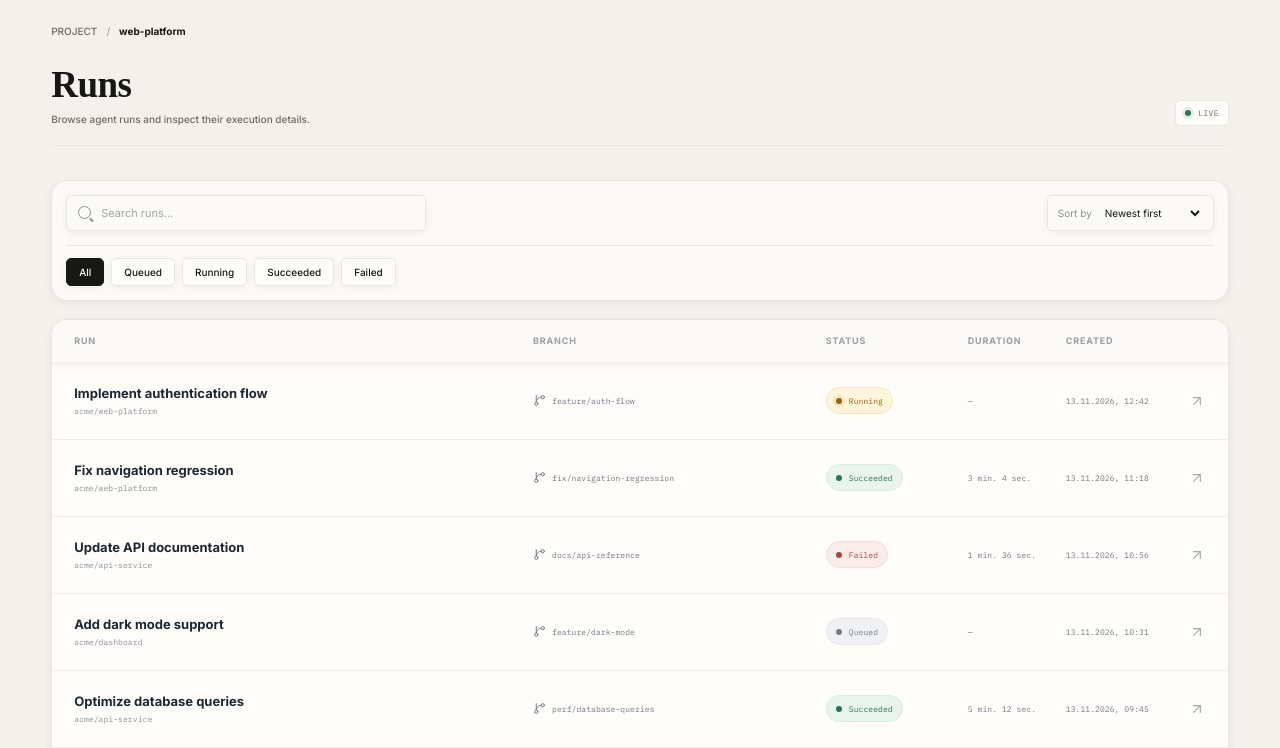
Scenario: RunsPage › opens the original details drawer from a run row
Expected: the text "Update API documentation" is shown, x1=74 y1=539 x2=244 y2=555
Click the button with aria-label "open details for update api documentation".
click(640, 554)  # box x1=52 y1=516 x2=1228 y2=592
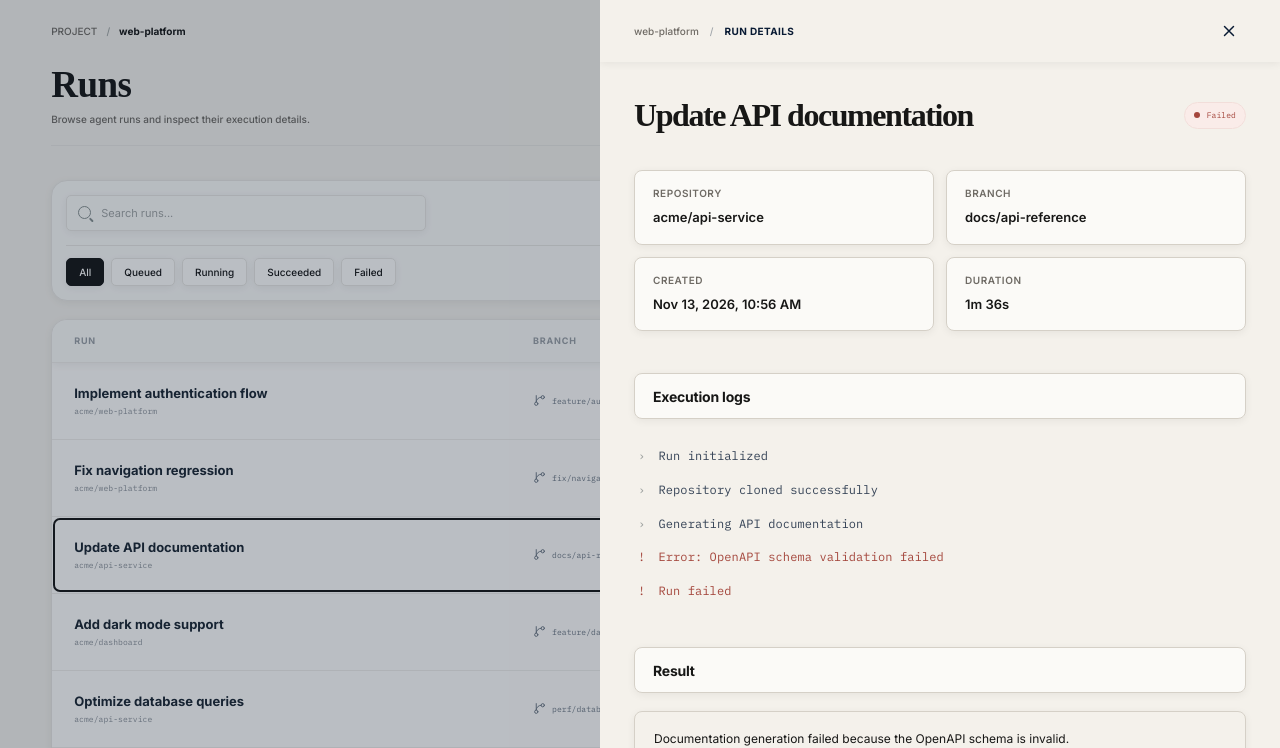
Expected: the heading "Execution logs" is shown, x1=653 y1=388 x2=750 y2=405
Expected: the heading "Result" is shown, x1=653 y1=662 x2=695 y2=679
